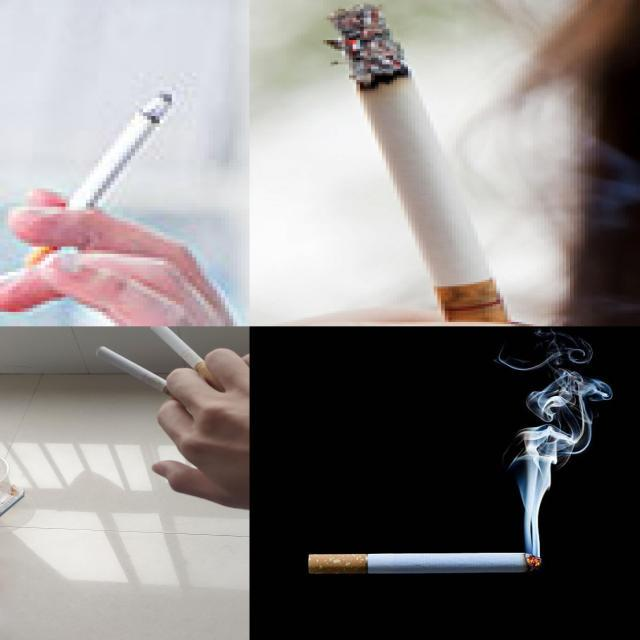smoke: (332, 6, 511, 322), (21, 91, 175, 271), (96, 346, 192, 408), (150, 326, 225, 392), (308, 554, 542, 574)
